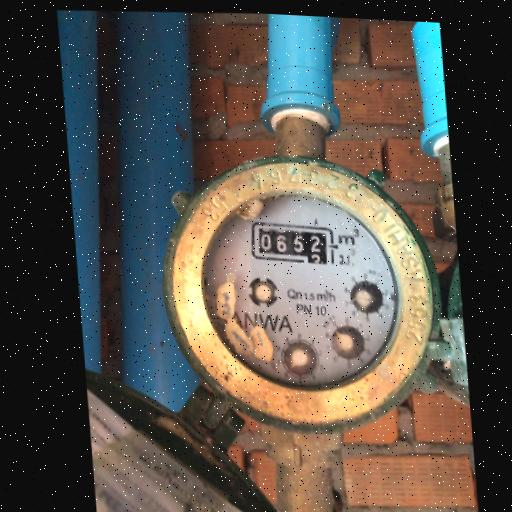0: (256, 227, 274, 254)
2: (304, 231, 327, 265)
5: (286, 229, 308, 256)
6: (270, 228, 290, 255)
border_water_meter_number: (247, 218, 335, 267)
